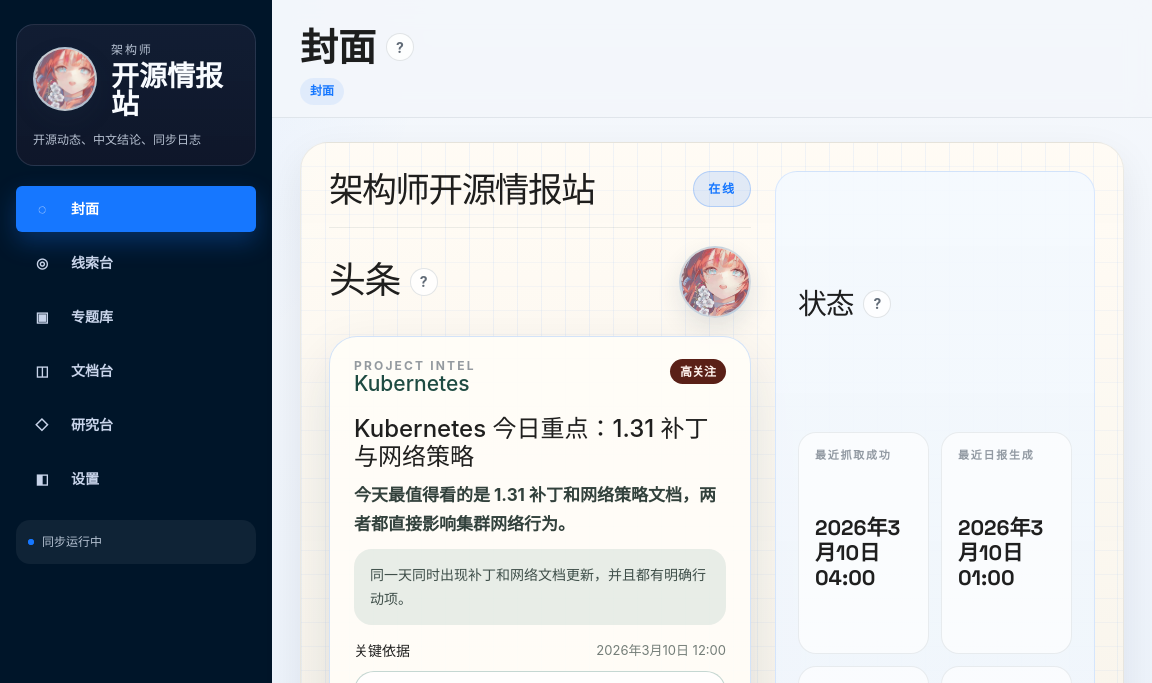
Test case: App › uses compact titles in settings instead of long explanatory copy
Click the button "◧ 设置". click: {"x": 136, "y": 479}
box: [16,456,256,502]
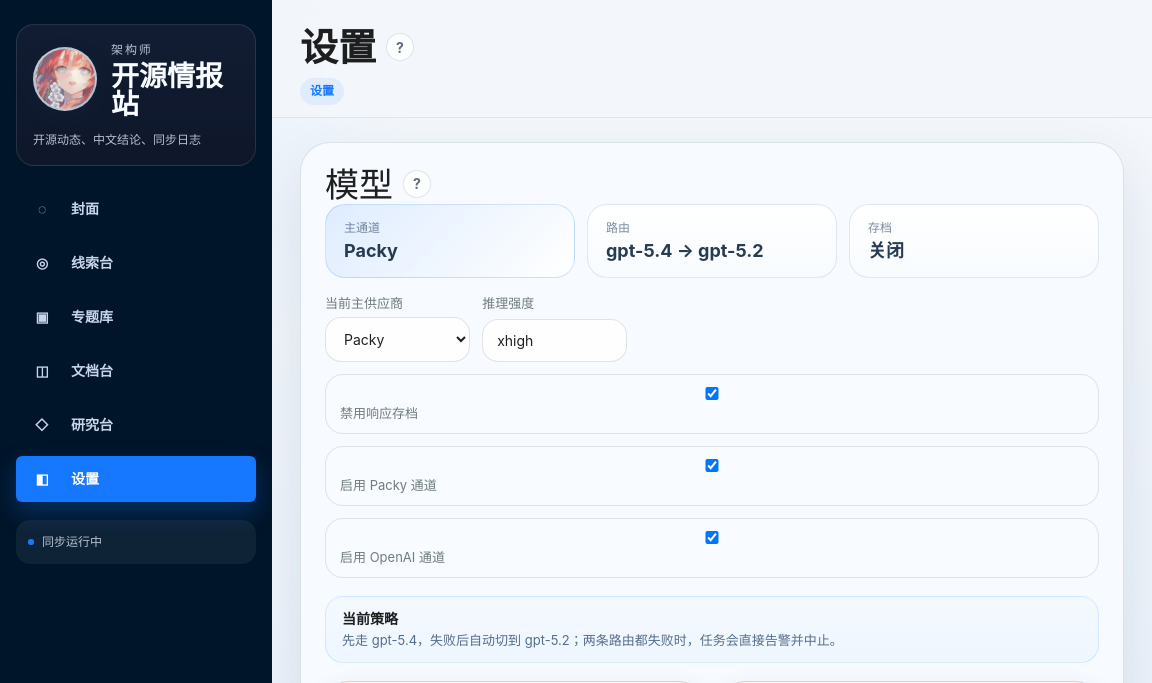
Check: the button named "设置说明" is shown, box [386,33,414,61]
Check: the heading "模型" is shown, box [325,165,393,204]
